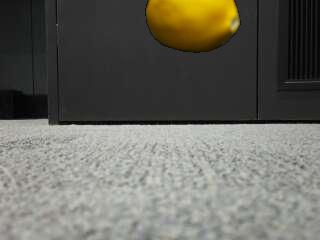lemon: (146, 0, 240, 51)
